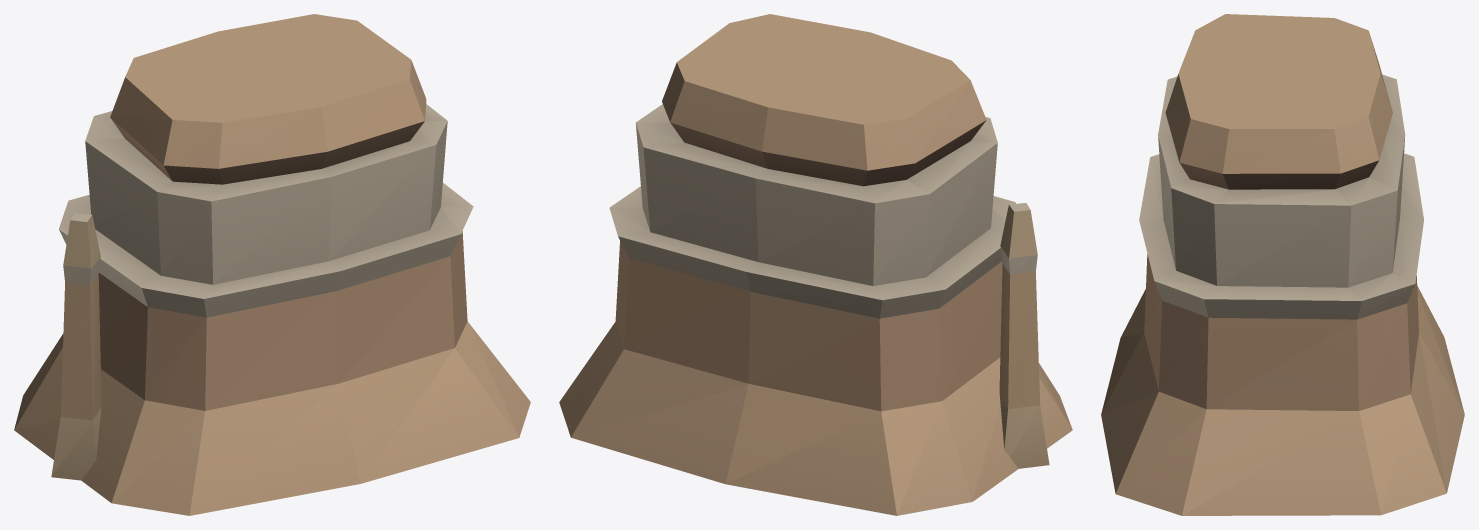
The model's file is mesa.lod2.glb.
3 renders of one model, left to right at view 1: azimuth 30°, elevation 25°; view 2: azimuth 150°, elevation 25°; view 3: azimuth 270°, elevation 25°, orthographic. The views are drawn at different scales.
Bounding box in the file's own units: 31.5 × 24 × 23.2.
